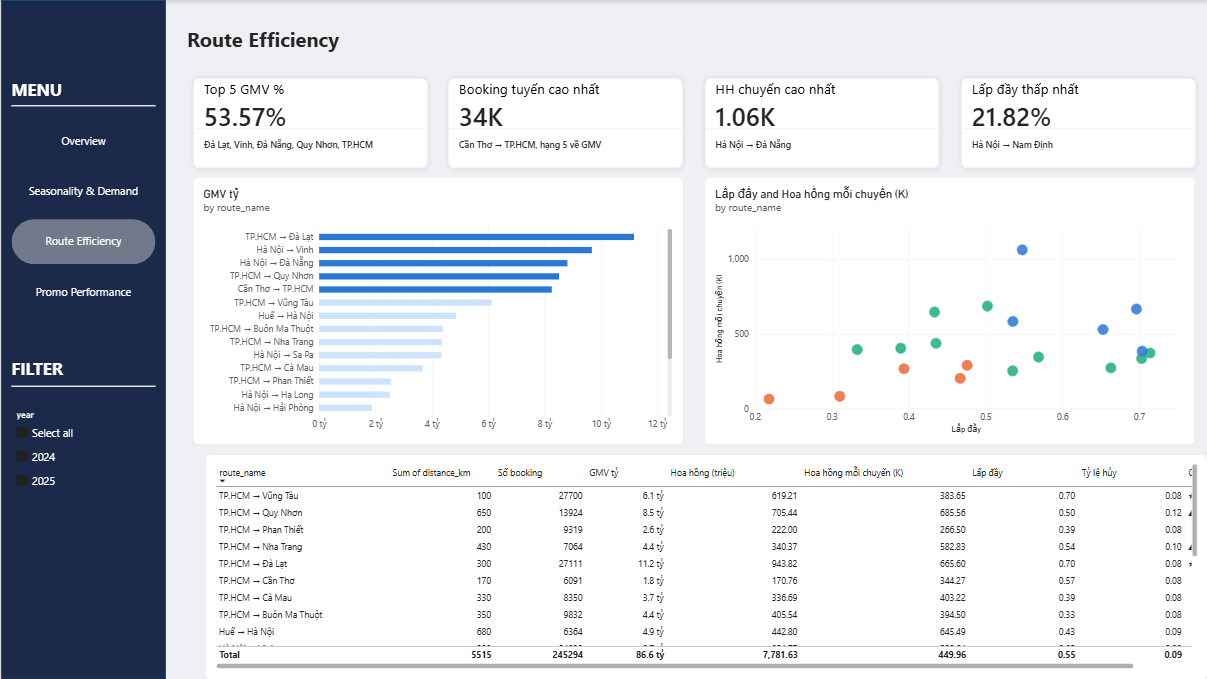

What the dashboard file says about the page in this screenshot:
{"tool":"powerbi","page":{"name":"Route Efficiency","canvas":[1920,1080],"ordinal":2},"visuals":[{"type":"shape","box":[0,0,263.5,1080],"z":0},{"type":"textbox","box":[295,41.6,437.9,63.3],"z":1000},{"type":"cardVisual","fields":{"Data":["Measure table.Top 5 GMV %"]},"box":[305.1,123.4,374,144],"z":2000},{"type":"cardVisual","fields":{"Data":["Measure table.Booking tuyến cao nhất"]},"box":[710.5,123.4,374,144],"z":3000},{"type":"cardVisual","fields":{"Data":["Measure table.HH chuyến cao nhất"]},"box":[1119.5,123.4,374,144],"z":4000},{"type":"cardVisual","fields":{"Data":["Measure table.Lấp đầy thấp nhất"]},"box":[1526.6,123.4,374,144],"z":5000},{"type":"clusteredBarChart","fields":{"Category":["dim_route.route_name"],"Y":["Measure table.GMV tỷ"]},"box":[305.8,280.5,780,425.3],"z":6000},{"type":"scatterChart","fields":{"Category":["dim_route.route_name"],"X":["Measure table.Lấp đầy"],"Y":["Measure table.Hoa hồng mỗi chuyến K"]},"box":[1120.2,280.5,780,425.3],"z":7000},{"type":"tableEx","fields":{"Values":["dim_route.route_name","Sum(dim_route.distance_km)","Measure table.Số booking","Measure table.GMV tỷ","Measure table.Hoa hồng triệu","Measure table.Hoa hồng mỗi chuyến (K)","Measure table.Lấp đầy","Measure table.Tỷ lệ hủy"]},"box":[305.8,722.1,1596.1,358.3],"z":8000},{"type":"pageNavigator","box":[40.6,205.2,182.8,394.5],"z":8001},{"type":"image","box":[19.1,35.8,226.7,121.7],"z":8002}]}

Visuals, with their boxes on the page's 1920x1080 design canvas (x1, y1, x2, y2). These are canvas units, not pixel positions in the 1207x679 screenshot, which may show the page scaled, cropped or inside an application window:
shape: select_region(0, 0, 264, 1080)
textbox: select_region(295, 42, 733, 105)
cardVisual - Measure table.Top 5 GMV %: select_region(305, 123, 679, 267)
cardVisual - Measure table.Booking tuyến cao nhất: select_region(710, 123, 1084, 267)
cardVisual - Measure table.HH chuyến cao nhất: select_region(1120, 123, 1494, 267)
cardVisual - Measure table.Lấp đầy thấp nhất: select_region(1527, 123, 1901, 267)
clusteredBarChart - dim_route.route_name x Measure table.GMV tỷ: select_region(306, 280, 1086, 706)
scatterChart - dim_route.route_name x Measure table.Lấp đầy: select_region(1120, 280, 1900, 706)
tableEx - dim_route.route_name x Sum(dim_route.distance_km): select_region(306, 722, 1902, 1080)
pageNavigator: select_region(41, 205, 223, 600)
image: select_region(19, 36, 246, 158)
